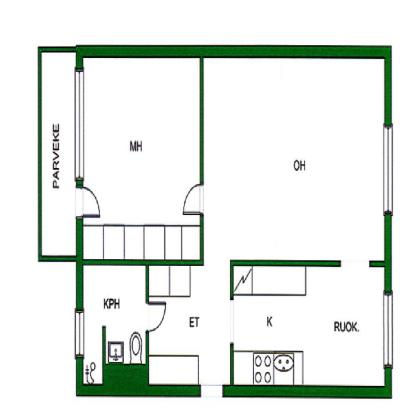window: (75, 70, 85, 179), (384, 126, 393, 214), (384, 292, 392, 366), (75, 310, 84, 357)
zone: (148, 57, 384, 388), (83, 55, 200, 258), (234, 265, 385, 384), (82, 264, 144, 385), (42, 52, 76, 256), (182, 182, 205, 218), (76, 189, 100, 219), (145, 304, 167, 334)
